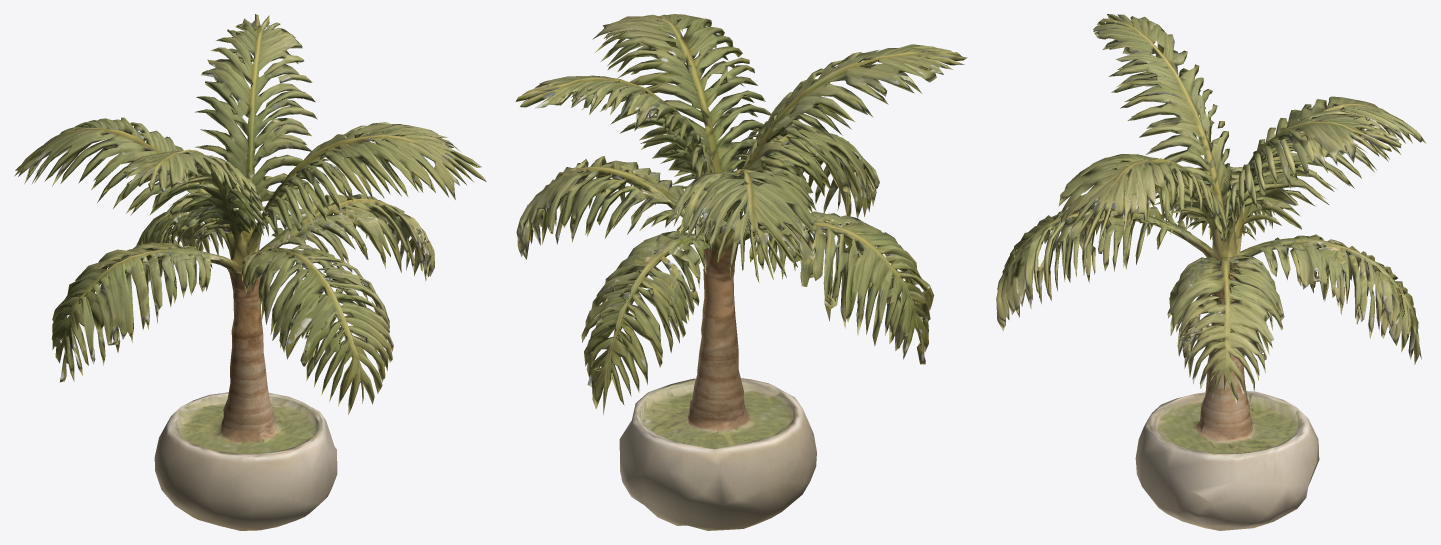
File: VAR_Pool_PlanterTree.fbx
The picture shows the model from 3 angles, left to right: view 1: azimuth 30°, elevation 25°; view 2: azimuth 150°, elevation 25°; view 3: azimuth 270°, elevation 25°; orthographic projection. The views are drawn at different scales.
Parts seen in each view (by area): view 1: texture_mapping; view 2: texture_mapping; view 3: texture_mapping.
Boxes of the visible parts, x1=… form: texture_mapping: x1=14, y1=14, x2=486, y2=530; texture_mapping: x1=515, y1=14, x2=967, y2=530; texture_mapping: x1=996, y1=14, x2=1426, y2=530.
Bounding box in the file's own units: 0.919 × 0.9327 × 1.
1 material, 1 textured.
